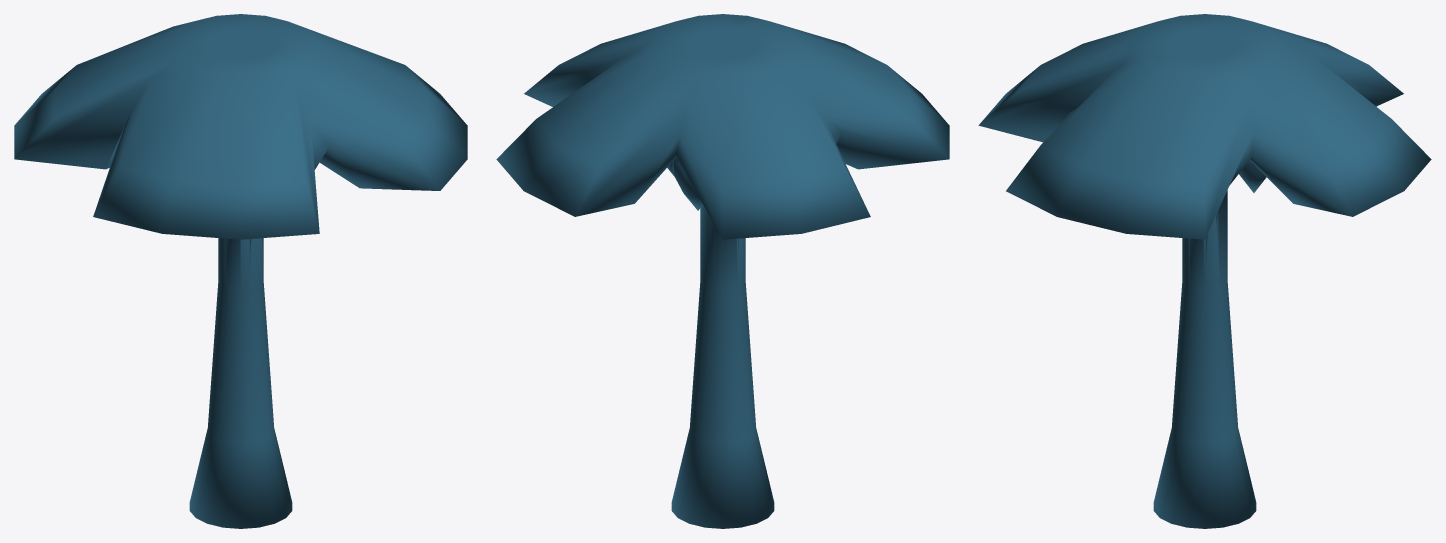
Rendered from Choco Tree.obj.
3 views of the same model, side by side, from view 1: azimuth 30°, elevation 25°; view 2: azimuth 150°, elevation 25°; view 3: azimuth 270°, elevation 25° (orthographic).
Visible parts, largest first — view 1: Choco_Tree; view 2: Choco_Tree; view 3: Choco_Tree.
Part boxes in pixels (box(x1,y1,x2,y2)): Choco_Tree: box(14, 14, 467, 528); Choco_Tree: box(496, 14, 949, 528); Choco_Tree: box(978, 14, 1431, 528).
Size of the model in its own units: 39.87 by 45.57 by 40.48.
